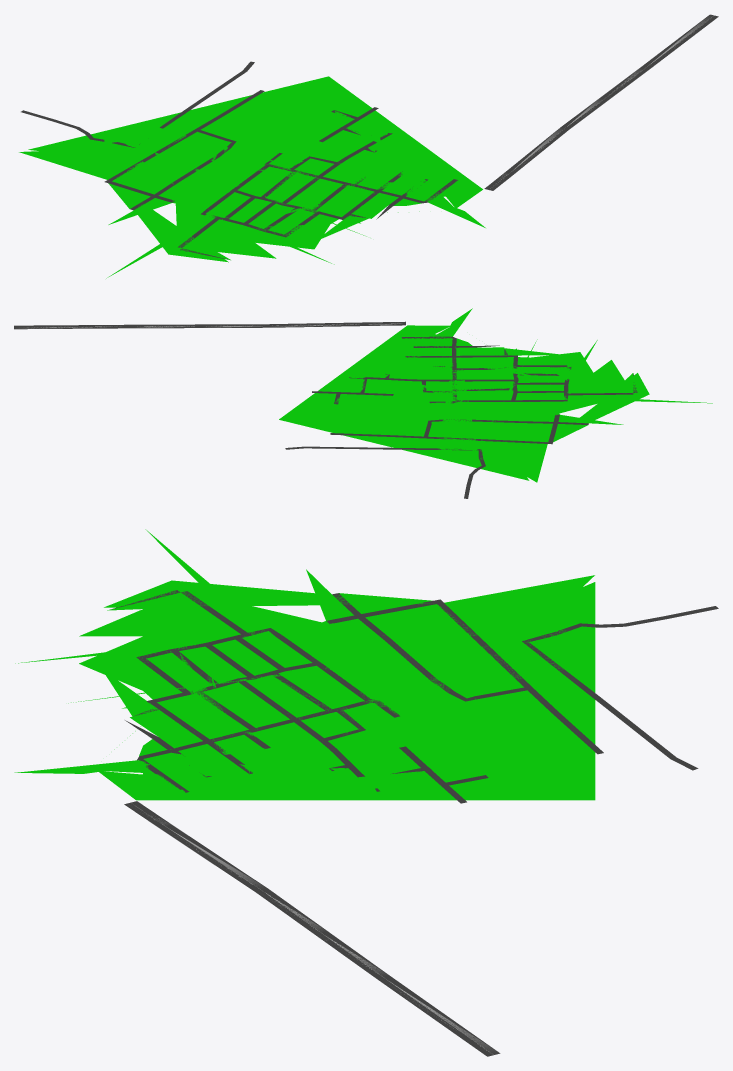
3 renders of one model, top to bottom at view 1: azimuth 30°, elevation 25°; view 2: azimuth 150°, elevation 25°; view 3: azimuth 270°, elevation 25°, orthographic. The views are drawn at different scales.
Size of the model in its own units: 582 by 0 by 327.
